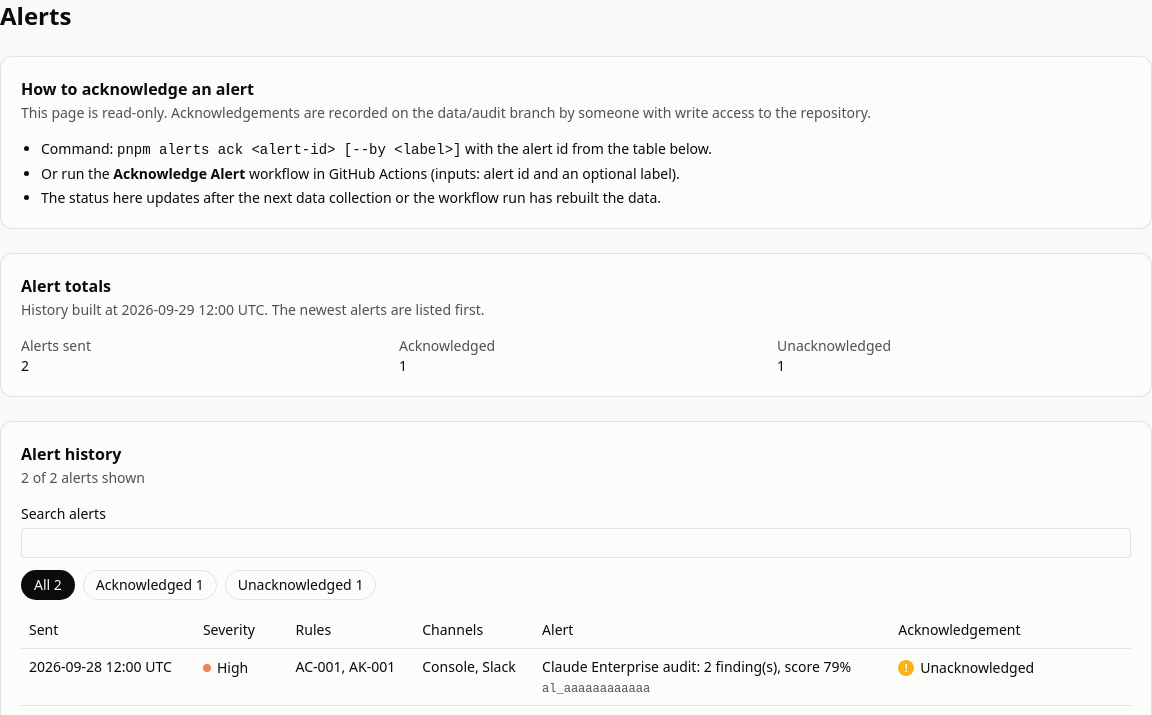
Alerts page › filters by acknowledgement status with counts
The image size is (1152, 715).
Click the button "Acknowledged 1".
click(150, 585)  # box [83,570,217,600]
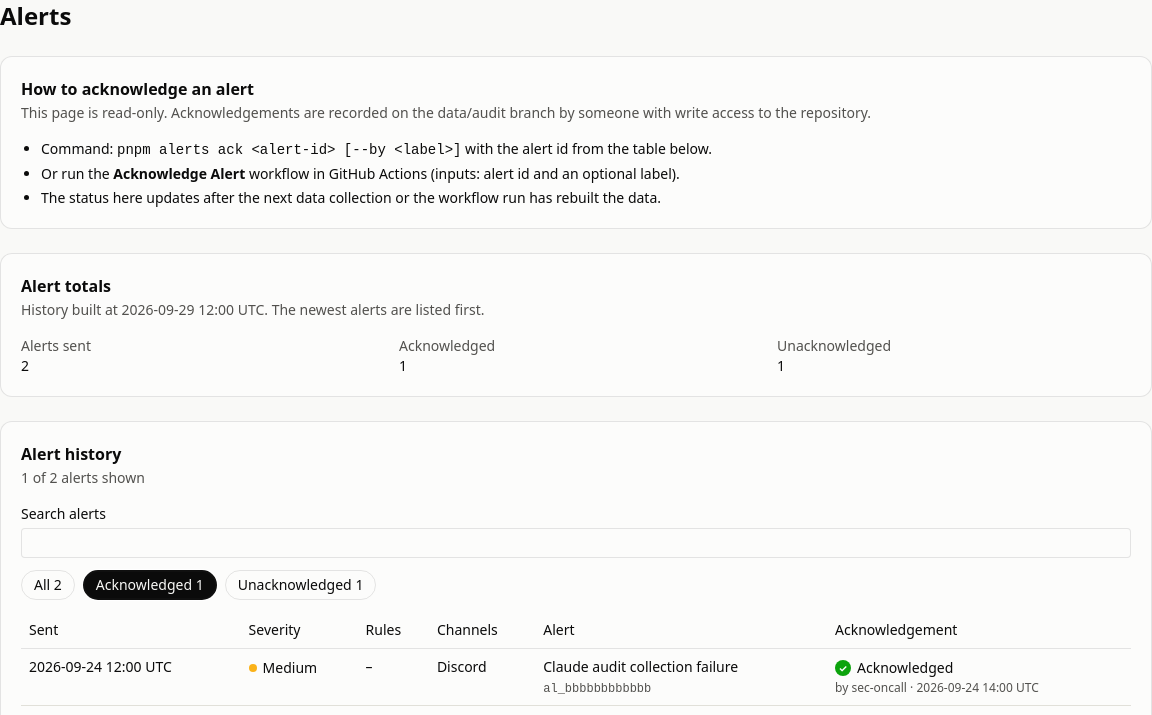
Expected: the text "al_bbbbbbbbbbbb" is shown, [543,682,651,696]
Expected: the text "al_aaaaaaaaaaaa" is gone
Expected: the text "1 of 2 alerts shown" is shown, [21,468,145,487]
Click the button "Unacknowledged 1".
click(301, 585)  # box [225,570,376,600]
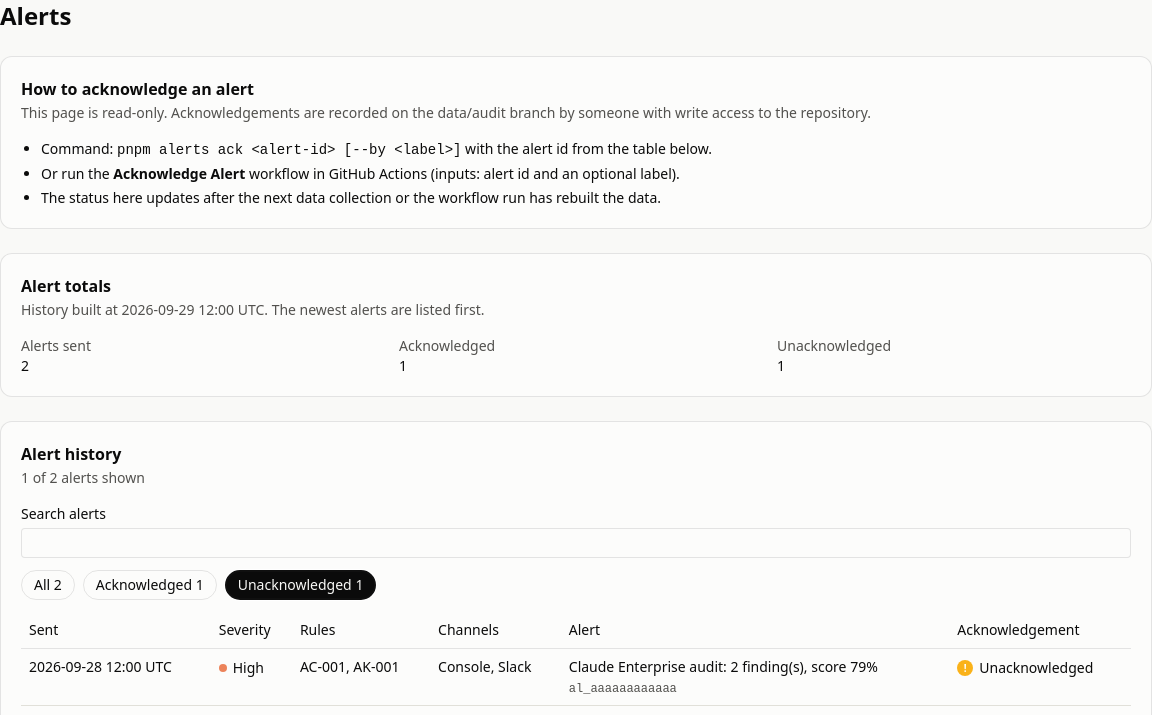
Expected: the text "al_aaaaaaaaaaaa" is shown, [569,682,677,696]
Expected: the text "al_bbbbbbbbbbbb" is gone
